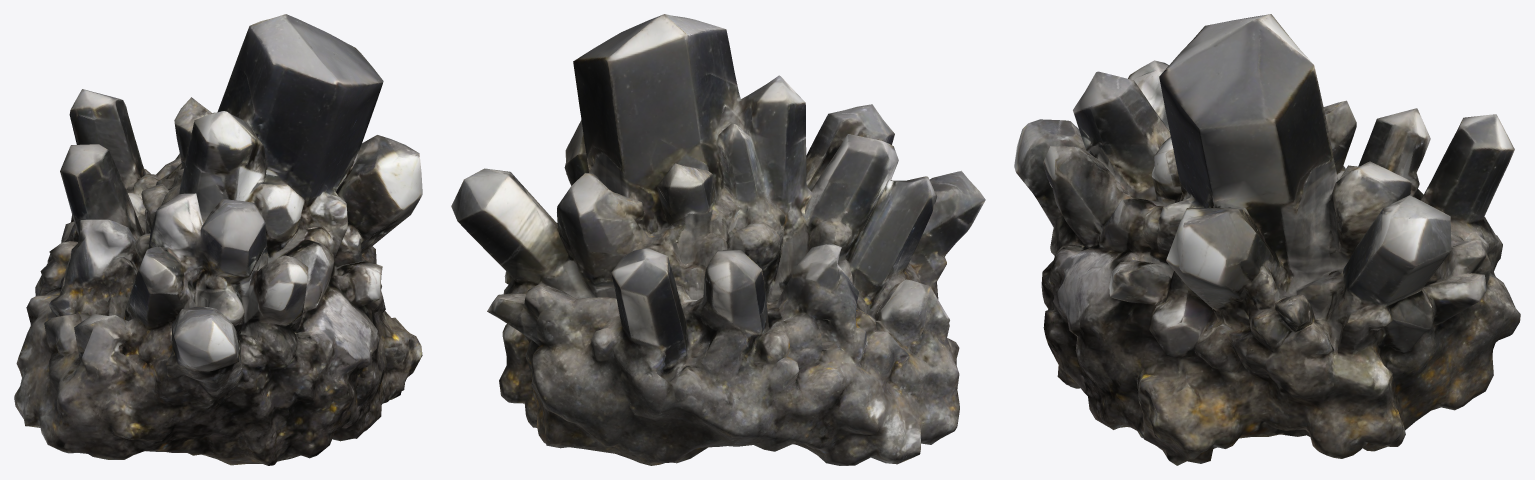
File: metal.glb
The picture shows the model from 3 angles, left to right: view 1: azimuth 30°, elevation 25°; view 2: azimuth 150°, elevation 25°; view 3: azimuth 270°, elevation 25°; orthographic projection. The views are drawn at different scales.
Bounding box in the file's own units: 1.93 × 1.8 × 2.
Materials: 1 (1 with a texture image).
